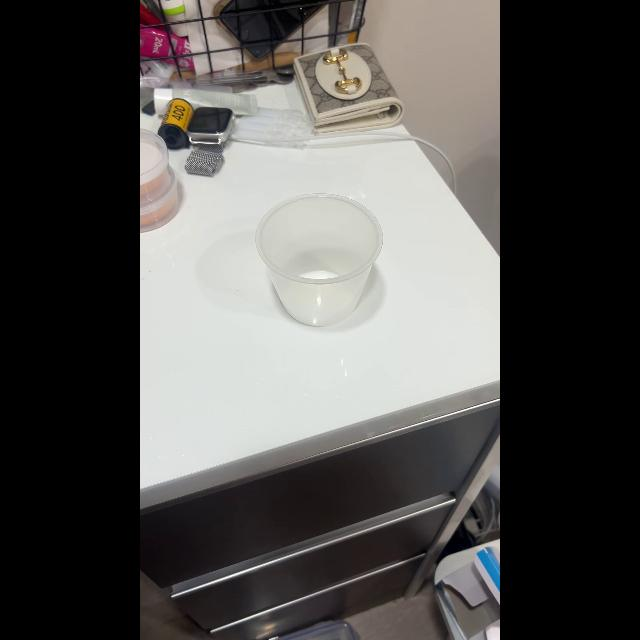clean: (248, 186, 382, 330)
